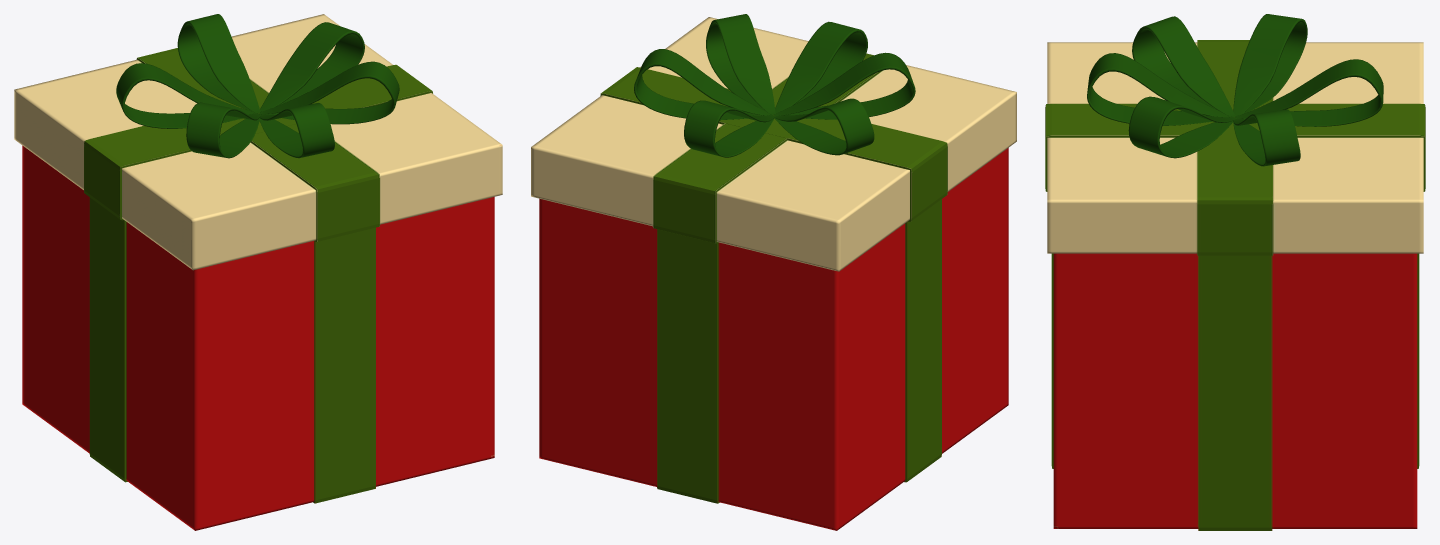
Rendered from mediumpresent.glb.
The picture shows the model from 3 angles, left to right: view 1: azimuth 30°, elevation 25°; view 2: azimuth 150°, elevation 25°; view 3: azimuth 270°, elevation 25°; orthographic projection. The views are drawn at different scales.
Visible parts, largest first — view 1: Bow.002_Material_0; view 2: Bow.002_Material_0; view 3: Bow.002_Material_0.
Boxes of the visible parts, x1,y1,x2,y2 form: Bow.002_Material_0: (14,14,502,530); Bow.002_Material_0: (531,14,1016,530); Bow.002_Material_0: (1045,14,1425,530).
Bounding box in the file's own units: 2.09 × 2.38 × 2.09.
1 material, 1 textured.
